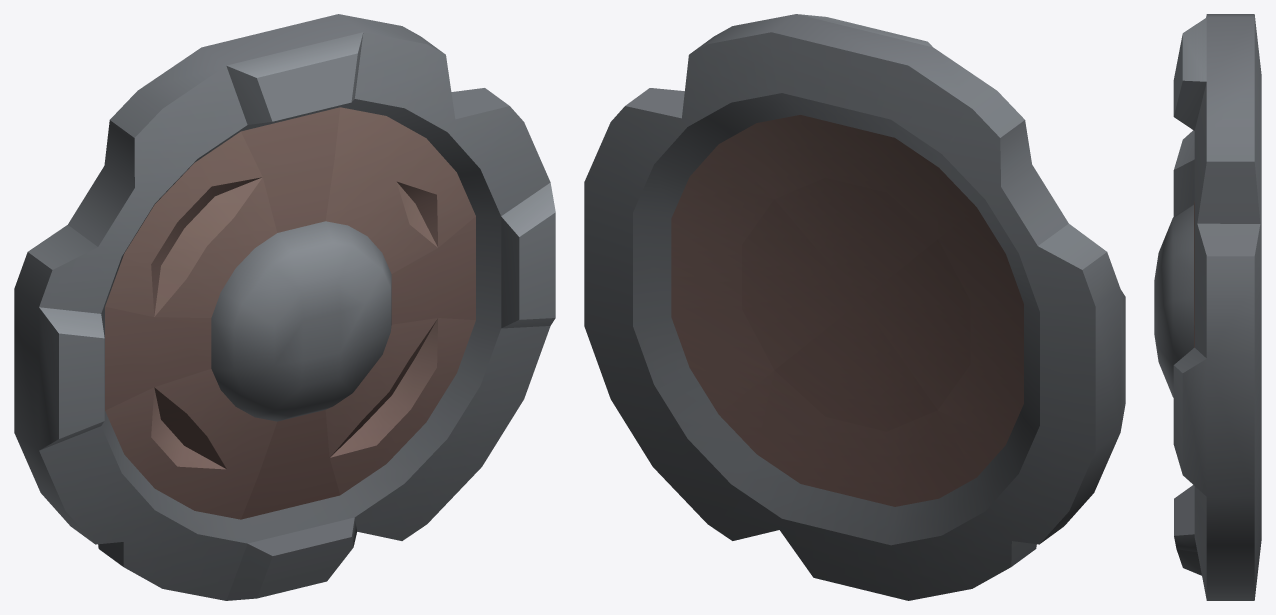
The model's file is Skeleton_Shield_Small_A.glb.
The picture shows the model from 3 angles, left to right: view 1: azimuth 30°, elevation 25°; view 2: azimuth 150°, elevation 25°; view 3: azimuth 270°, elevation 25°; orthographic projection. The views are drawn at different scales.
Parts seen in each view (by area): view 1: Skeleton_Shield_Small_A; view 2: Skeleton_Shield_Small_A; view 3: Skeleton_Shield_Small_A.
Part boxes in pixels (bbox=[...]): Skeleton_Shield_Small_A: bbox=[14, 14, 555, 600]; Skeleton_Shield_Small_A: bbox=[584, 14, 1125, 600]; Skeleton_Shield_Small_A: bbox=[1154, 14, 1261, 600].
Size of the model in its own units: 0.8322 by 0.8322 by 0.1565.
1 material, 1 textured.
